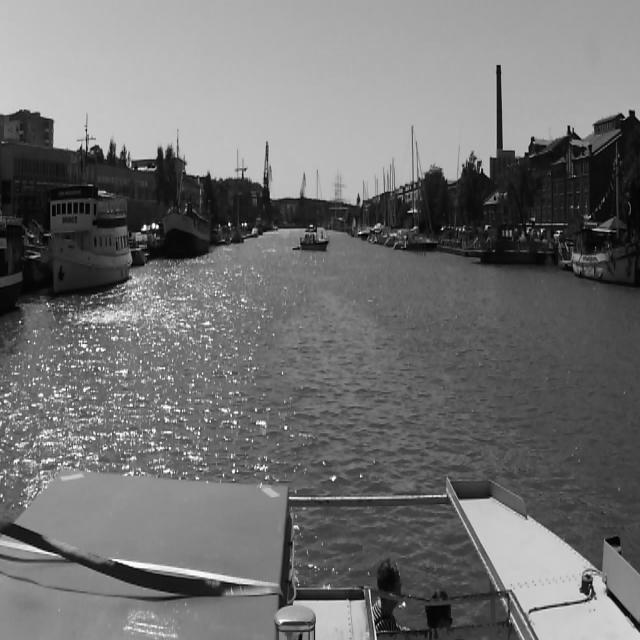ship: (51, 191, 132, 294), (390, 115, 422, 252), (574, 230, 636, 288), (460, 230, 554, 263), (165, 202, 211, 257), (0, 228, 24, 314), (298, 230, 328, 252), (406, 233, 436, 251), (234, 228, 244, 244), (359, 228, 370, 240)
